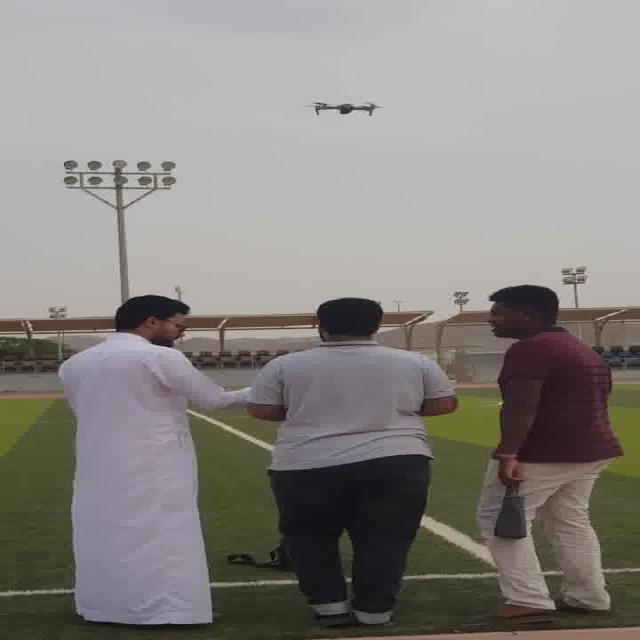drone: (304, 98, 388, 116)
